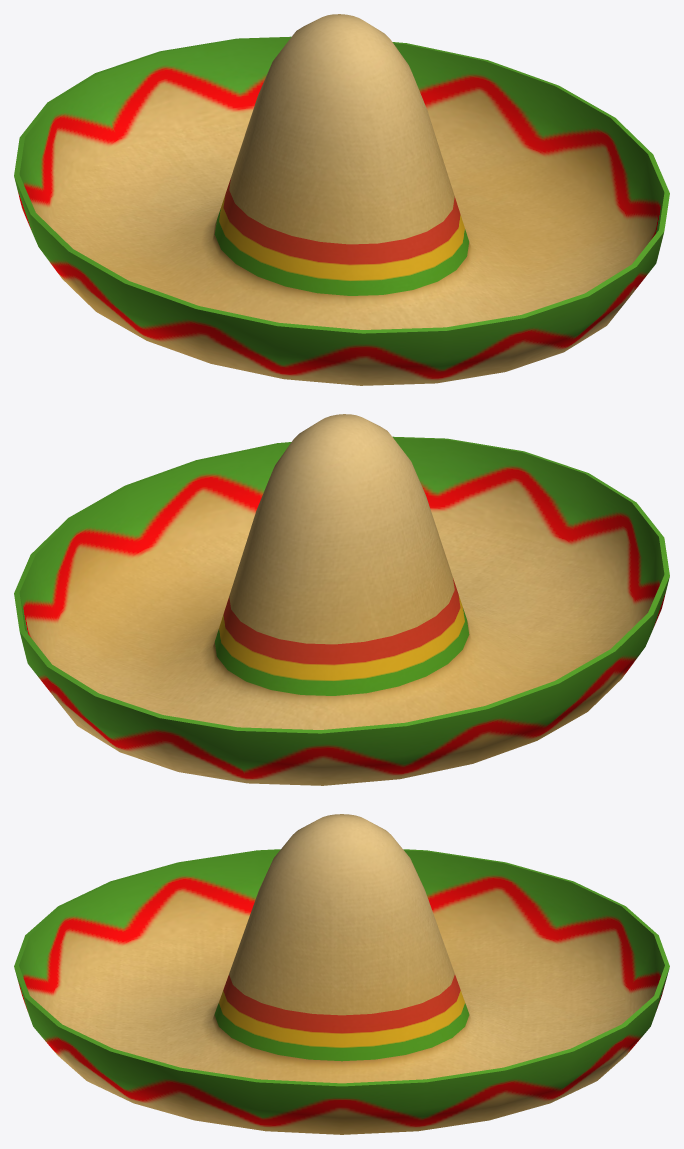
Rendered from MexicanHat.FBX.
3 views of the same model, one above another, from view 1: azimuth 30°, elevation 25°; view 2: azimuth 150°, elevation 25°; view 3: azimuth 270°, elevation 25° (orthographic). The views are drawn at different scales.
Visible parts, largest first — view 1: MexicanHat; view 2: MexicanHat; view 3: MexicanHat.
Part boxes in pixels (x1,y1,x2,y2): MexicanHat: (14,14,669,385); MexicanHat: (14,414,669,785); MexicanHat: (14,814,669,1134).
Bounding box in the file's own units: 84.41 × 36.69 × 97.41.
Materials: 1 (1 with a texture image).
